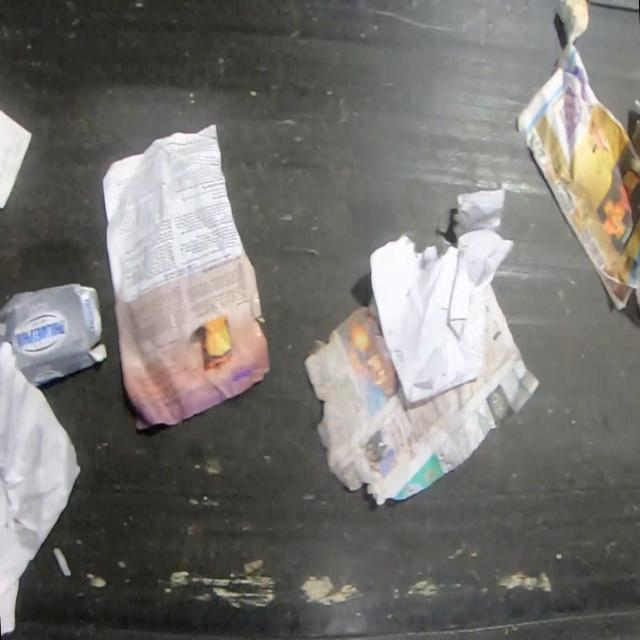cardboard: (0, 282, 108, 386)
